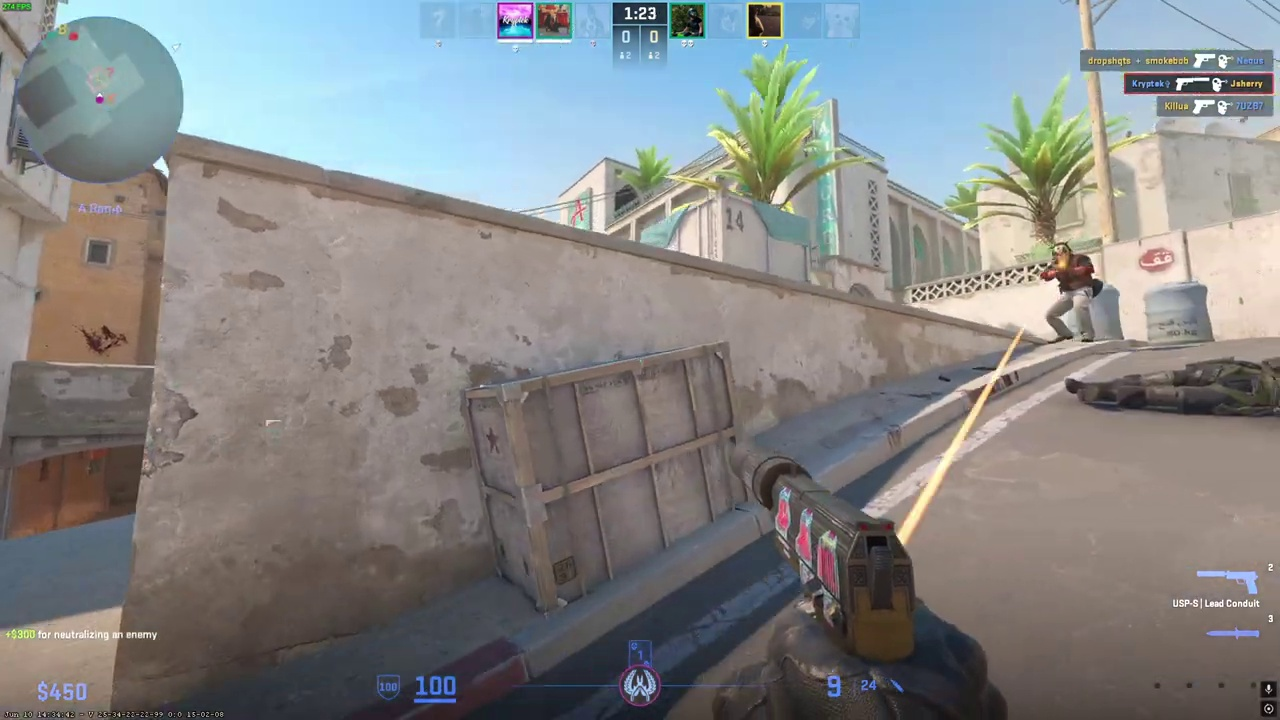Terrorist: (1040, 242, 1098, 344)
